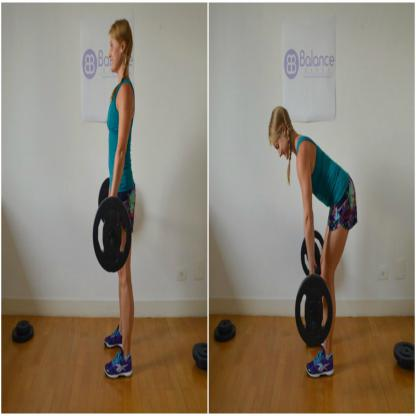Barbell: (88, 192, 133, 277), (292, 270, 334, 352)
